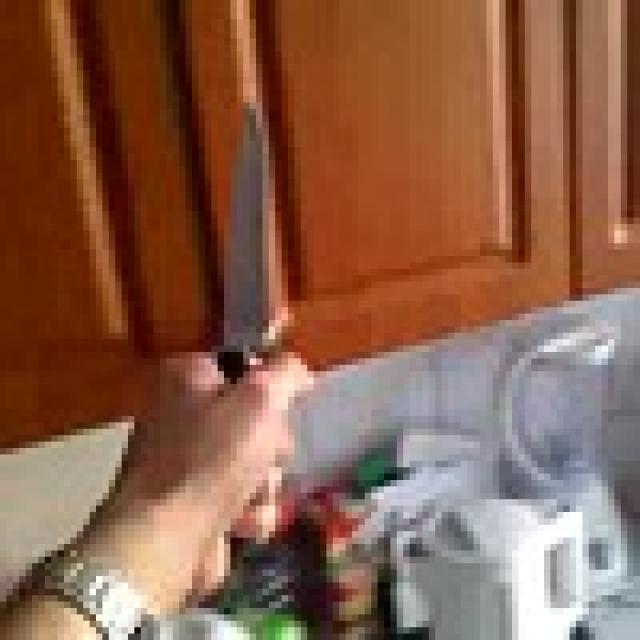Knife: (211, 96, 301, 391)
